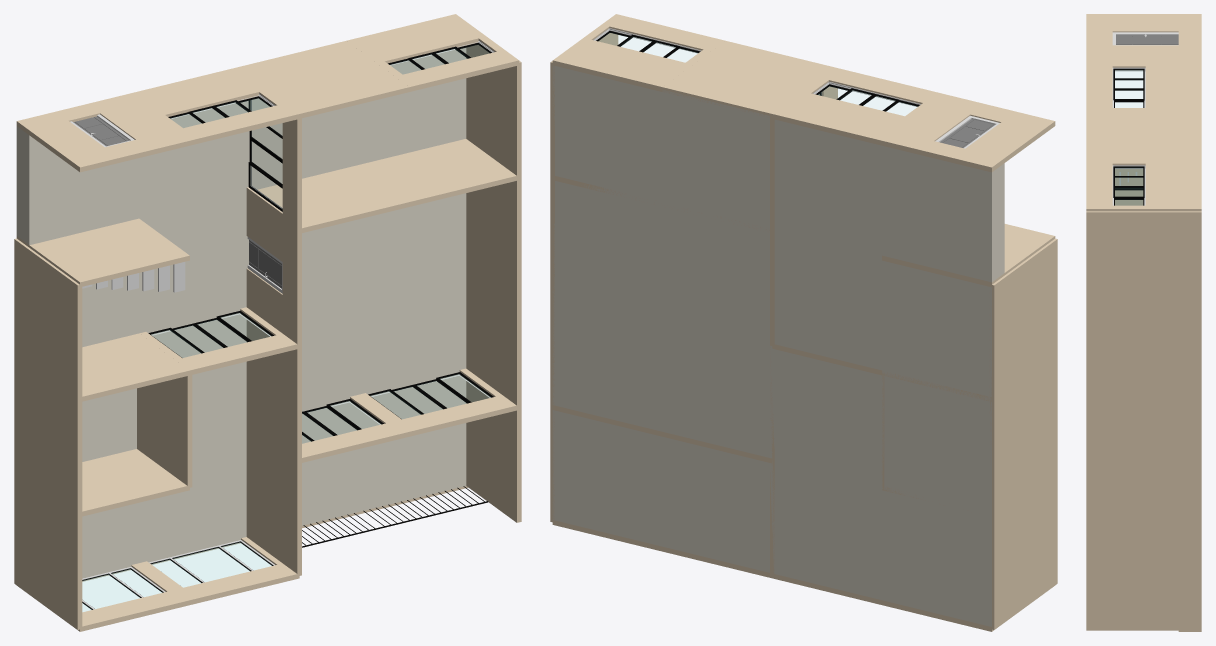
File: 3_jamesha_ceilingless.gltf
The picture shows the model from 3 angles, left to right: view 1: azimuth 30°, elevation 25°; view 2: azimuth 150°, elevation 25°; view 3: azimuth 270°, elevation 25°; orthographic projection. The views are drawn at different scales.
Parts seen in each view (by area): view 1: floor_5, floor_10, floor_1, floor_15, floor_3, wall_4, wall_3, wall_10, floor_14, wall_11, floor_12, floor_4 (+39 smaller); view 2: floor_15, floor_8, floor_6, floor_5, floor_11, floor_4, floor_13, floor, floor_9, floor_7, floor_1, floor_3 (+15 smaller); view 3: wall_2, wall_5, wall, wall_1, wall_11, SIP_2, SIP_11, SIP_10, wall_4, Door, WindowCasement_4, WindowCasement_5 (+3 smaller).
Boxes of the visible parts, <box> form: floor_5: <box>358,256,466,394</box>; floor_10: <box>139,195,248,333</box>; floor_1: <box>139,424,246,562</box>; floor_15: <box>16,126,139,245</box>; floor_3: <box>358,374,466,511</box>; wall_4: <box>14,238,82,400</box>; wall_3: <box>14,354,82,514</box>; wall_10: <box>14,469,82,629</box>; floor_14: <box>139,101,248,220</box>; wall_11: <box>236,41,409,118</box>; floor_12: <box>358,48,466,164</box>; floor_4: <box>358,193,466,281</box>; floor_15: <box>882,145,1004,282</box>; floor_8: <box>882,373,991,514</box>; floor_6: <box>662,319,772,458</box>; floor_5: <box>552,293,662,431</box>; floor_11: <box>662,204,769,345</box>; floor_4: <box>552,181,662,319</box>; floor_13: <box>662,90,769,230</box>; floor: <box>882,488,991,626</box>; floor_9: <box>882,260,991,399</box>; floor_7: <box>772,348,881,487</box>; floor_1: <box>772,461,881,599</box>; floor_3: <box>552,410,662,546</box>; wall_2: <box>1086,421,1201,526</box>; wall_5: <box>1086,211,1201,316</box>; wall: <box>1086,526,1201,630</box>; wall_1: <box>1086,317,1201,421</box>; wall_11: <box>1086,111,1201,160</box>; SIP_2: <box>1086,14,1201,62</box>; SIP_11: <box>1086,160,1201,211</box>; SIP_10: <box>1086,62,1201,111</box>; wall_4: <box>1115,172,1143,205</box>; Door: <box>1116,35,1178,44</box>; WindowCasement_4: <box>1113,68,1144,107</box>; WindowCasement_5: <box>1113,166,1144,205</box>.
Size of the model in its own units: 14.15 by 14.15 by 3.5.
